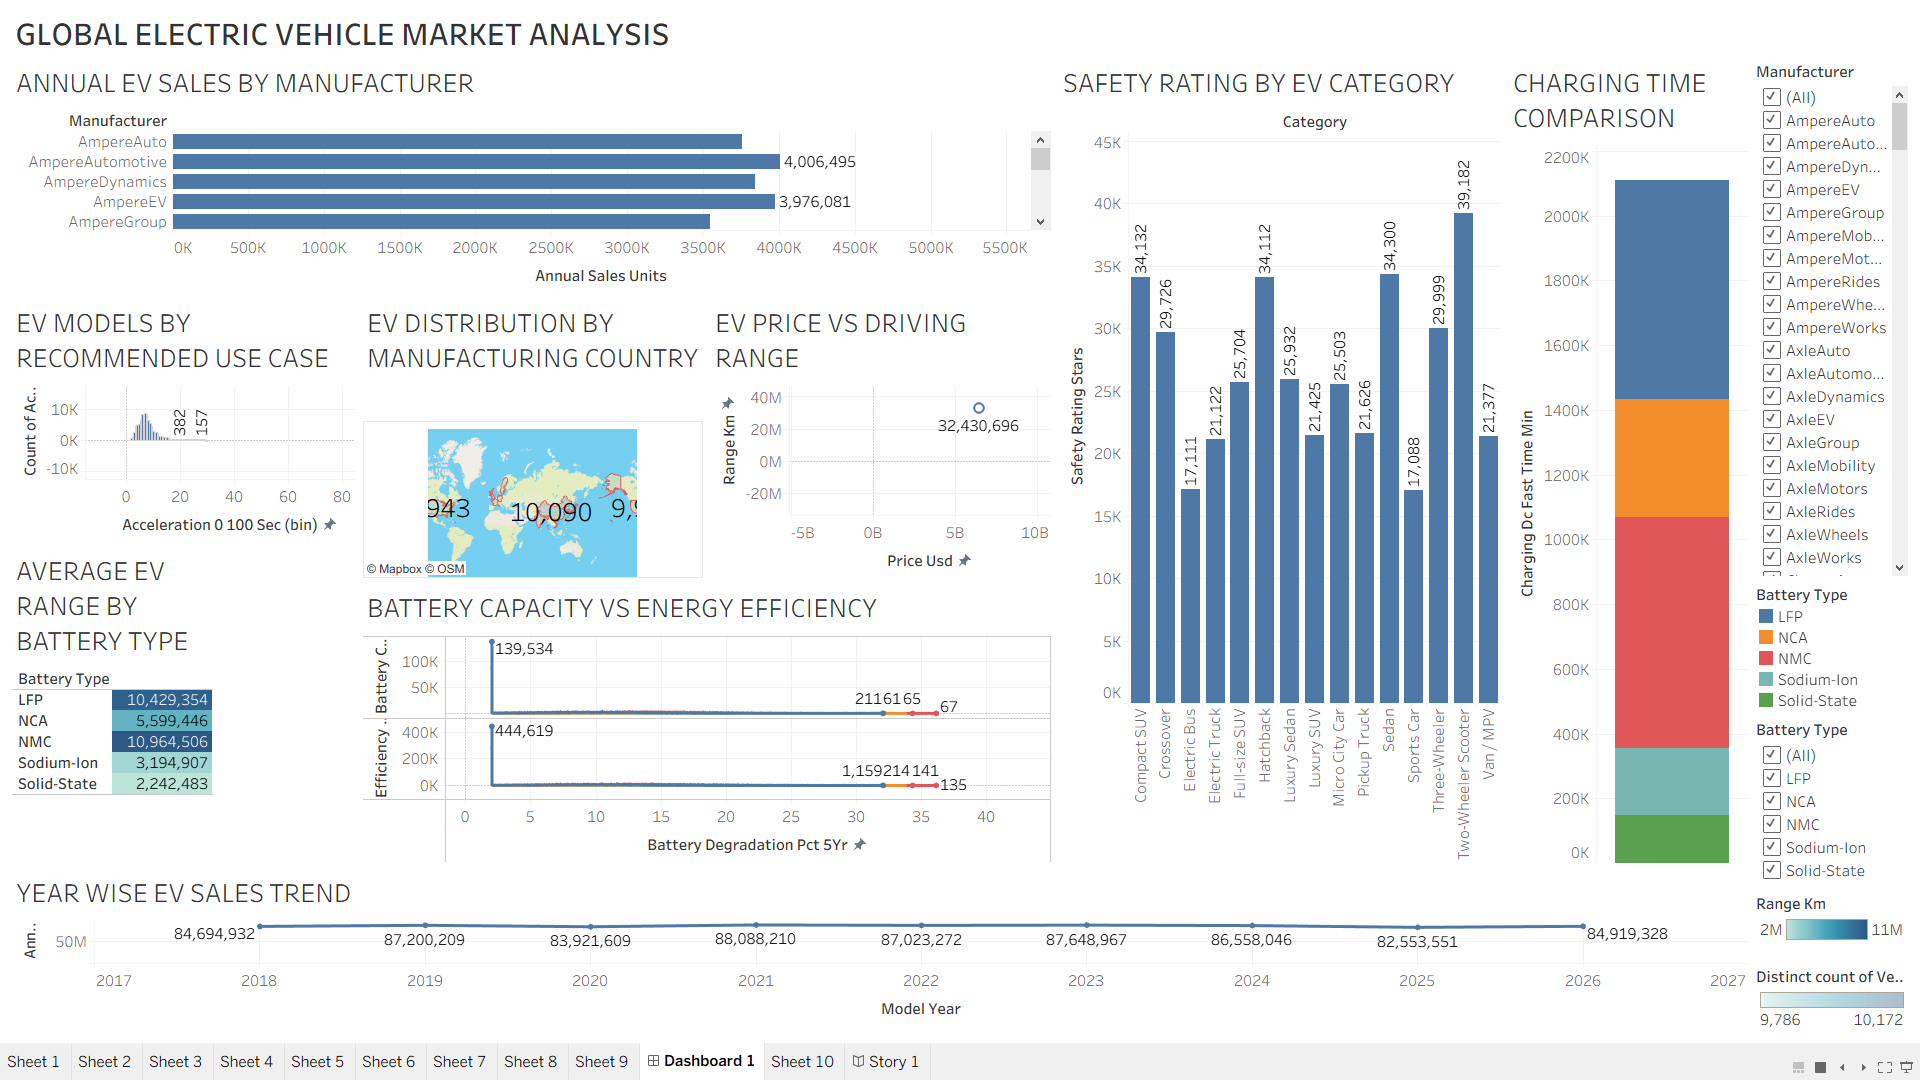

The page's visual inventory and layout, read from the dashboard file:
{"tool":"tableau","page":{"name":"Dashboard 1","canvas":[1000,1000],"units":"permille","ordinal":0},"visuals":[{"type":"title","box":[4.8,9.3,990.3,56.9]},{"type":"worksheet","title":"Sheet 1","mark":"Automatic","rows":["manufacturer"],"cols":["annual_sales_units"],"box":[4.8,66.2,536.5,226.5]},{"type":"worksheet","title":"Sheet 6","mark":"Automatic","rows":["safety_rating_stars"],"cols":["category"],"box":[541.3,66.2,230.6,765.8]},{"type":"worksheet","title":"Sheet 7","mark":"Automatic","rows":["charging_dc_fast_time_min"],"box":[771.9,66.2,126.8,765.8]},{"type":"filter","title":"Sheet 1","param":"[federated.1z0onpr0p8zfmb13aajl40aqocms].[none:manufacturer:nk]","box":[898.6,66.2,96.6,396.1]},{"type":"worksheet","title":"Sheet 9","mark":"Automatic","rows":["acceleration_0_100_sec"],"cols":["Acceleration 0 100 Sec (bin)"],"box":[4.8,292.7,179.8,235.2]},{"type":"worksheet","title":"Sheet 4","mark":"Automatic","box":[184.6,292.7,178.3,269.7]},{"type":"worksheet","title":"Sheet 3","mark":"Automatic","rows":["range_km"],"cols":["price_usd"],"box":[363,292.7,178.3,269.7]},{"type":"legend","title":"Sheet 7","param":"[federated.1z0onpr0p8zfmb13aajl40aqocms].[none:battery_type:nk]","box":[898.6,462.3,96.6,156.8]},{"type":"worksheet","title":"Sheet 2","mark":"Square","rows":["battery_type"],"box":[4.8,527.9,179.8,304.2]},{"type":"worksheet","title":"Sheet 8","mark":"Automatic","rows":["battery_capacity_kwh","efficiency_wh_per_km"],"cols":["battery_degradation_pct_5yr"],"box":[184.6,562.3,356.7,269.7]},{"type":"filter","title":"Sheet 2","param":"[federated.1z0onpr0p8zfmb13aajl40aqocms].[none:battery_type:nk]","box":[898.6,619.1,96.6,202.1]},{"type":"legend","title":"Sheet 2","param":"[federated.1z0onpr0p8zfmb13aajl40aqocms].[sum:range_km:qk]","box":[898.6,821.1,96.6,84.8]},{"type":"worksheet","title":"Sheet 5","mark":"Automatic","rows":["annual_sales_units"],"cols":["model_year"],"box":[4.8,832,893.8,158.7]},{"type":"legend","title":"Sheet 4","param":"[federated.1z0onpr0p8zfmb13aajl40aqocms].[ctd:vehicle_id:qk]","box":[898.6,905.9,96.6,84.8]}]}

Visuals, with their boxes on the dashboard's canvas, which has no fixed pixel size, in thousandths of its width and height (x1, y1, x2, y2). These are canvas units, not pixel positions in the 1920x1080 screenshot, which may show the page scaled, cropped or inside an application window:
title: Rect(5, 9, 995, 66)
"Sheet 1" worksheet: Rect(5, 66, 541, 293)
"Sheet 6" worksheet: Rect(541, 66, 772, 832)
"Sheet 7" worksheet: Rect(772, 66, 899, 832)
"Sheet 1" filter: Rect(899, 66, 995, 462)
"Sheet 9" worksheet: Rect(5, 293, 185, 528)
"Sheet 4" worksheet: Rect(185, 293, 363, 562)
"Sheet 3" worksheet: Rect(363, 293, 541, 562)
"Sheet 7" legend: Rect(899, 462, 995, 619)
"Sheet 2" worksheet (Square marks): Rect(5, 528, 185, 832)
"Sheet 8" worksheet: Rect(185, 562, 541, 832)
"Sheet 2" filter: Rect(899, 619, 995, 821)
"Sheet 2" legend: Rect(899, 821, 995, 906)
"Sheet 5" worksheet: Rect(5, 832, 899, 991)
"Sheet 4" legend: Rect(899, 906, 995, 991)
